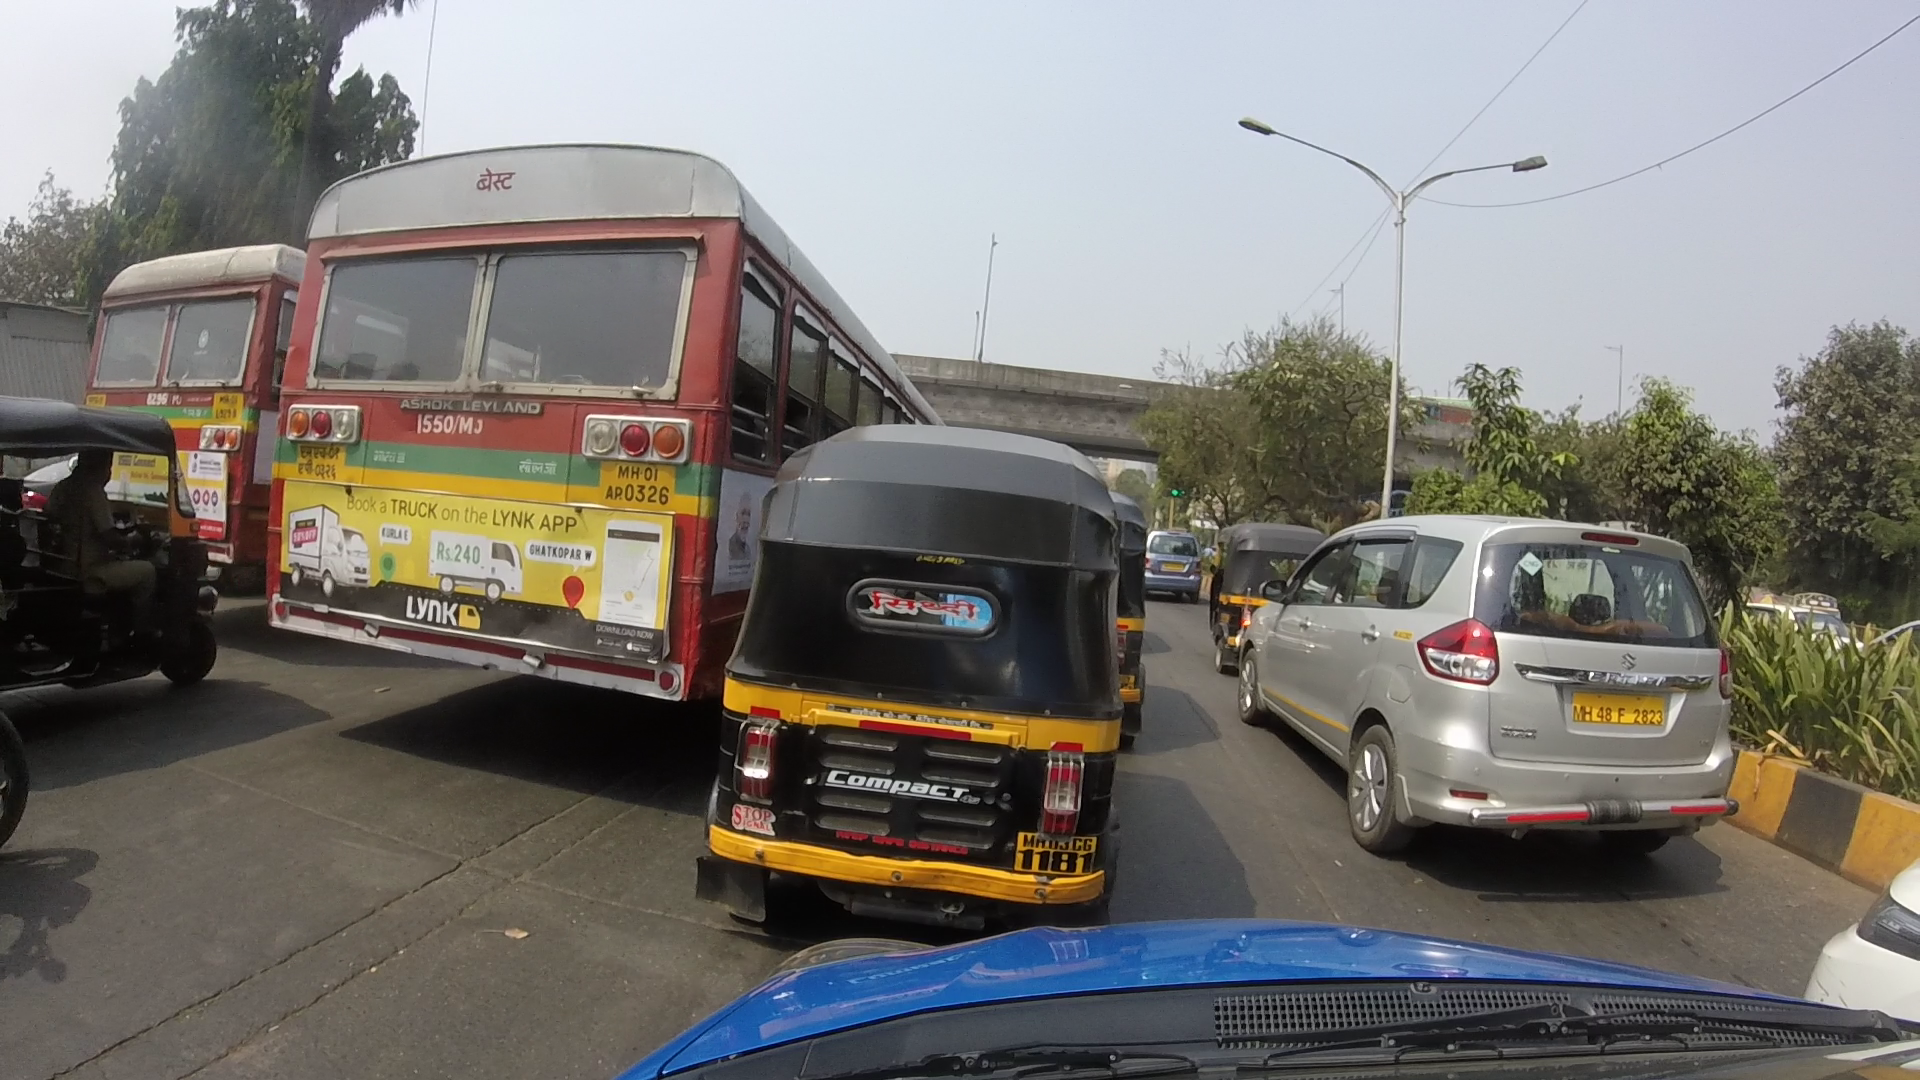bus: (287, 142, 945, 709), (87, 243, 309, 601)
car: (1205, 510, 1749, 851)
rickshaw: (702, 410, 1146, 913), (22, 410, 211, 686), (1196, 520, 1325, 676)
